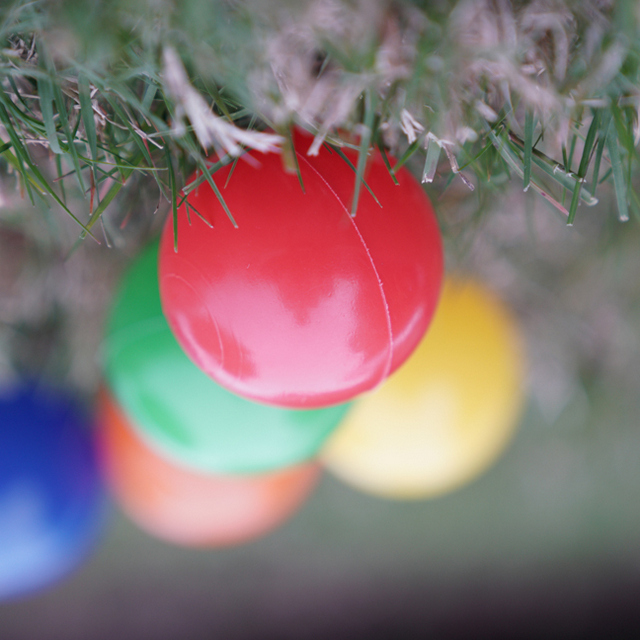Ball: (159, 121, 444, 398)
